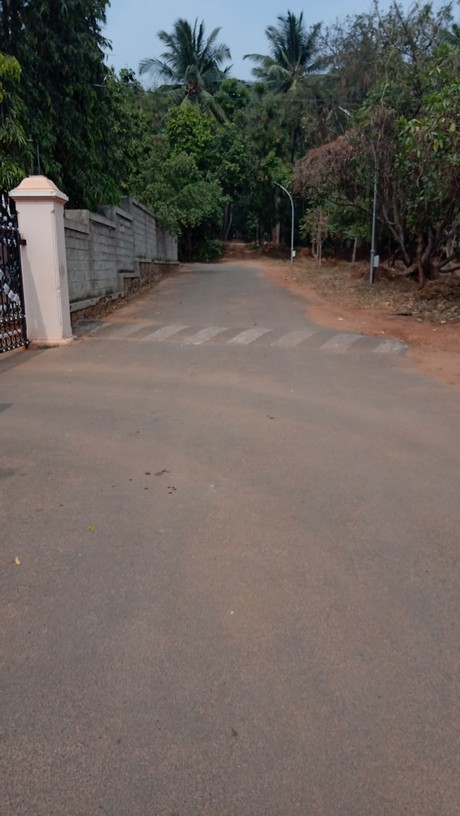bump: (79, 316, 413, 363)
